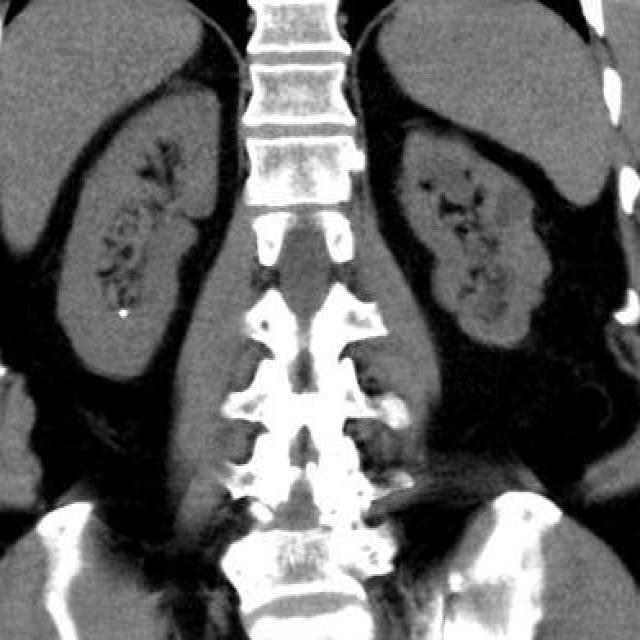Tas_Var: (118, 302, 129, 322)
